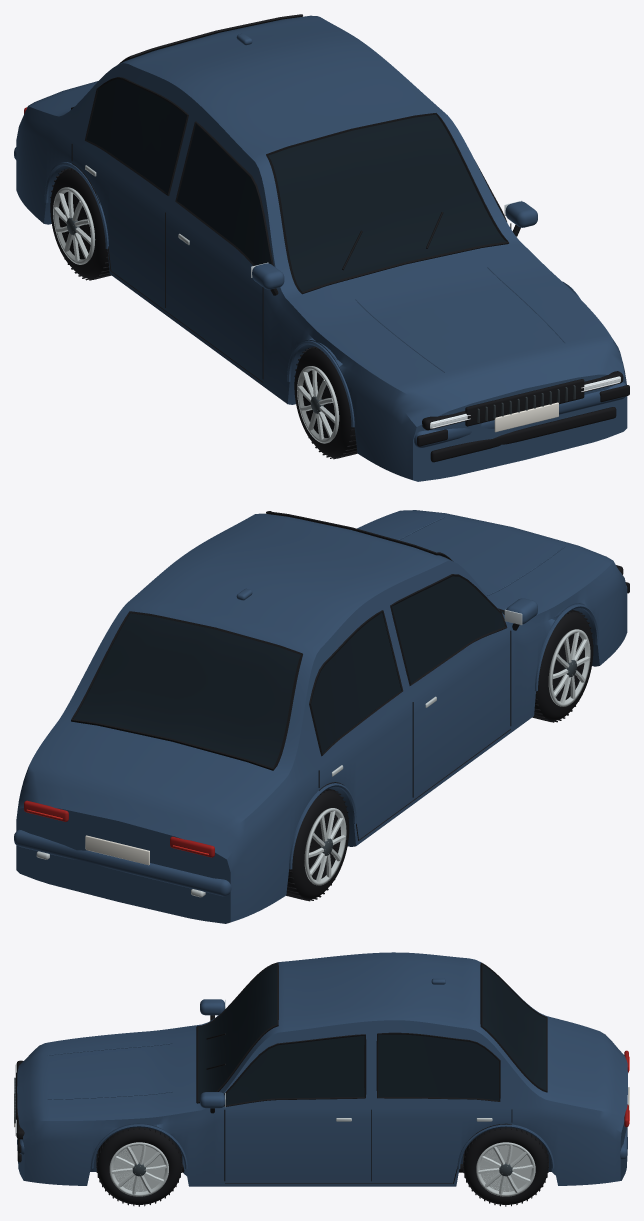
File: turismo_berlina_exterior.glb
3 views of the same model, one above another, from view 1: azimuth 30°, elevation 25°; view 2: azimuth 150°, elevation 25°; view 3: azimuth 270°, elevation 25° (orthographic). The views are drawn at different scales.
Visible parts, largest first — view 1: turismo_berlina_exterior; view 2: turismo_berlina_exterior; view 3: turismo_berlina_exterior.
Part boxes in pixels (x1,y1,x2,y2): turismo_berlina_exterior: (14,14,629,481); turismo_berlina_exterior: (14,510,629,923); turismo_berlina_exterior: (14,952,629,1206).
Bounding box in the file's own units: 1.79 × 1.52 × 4.64.
